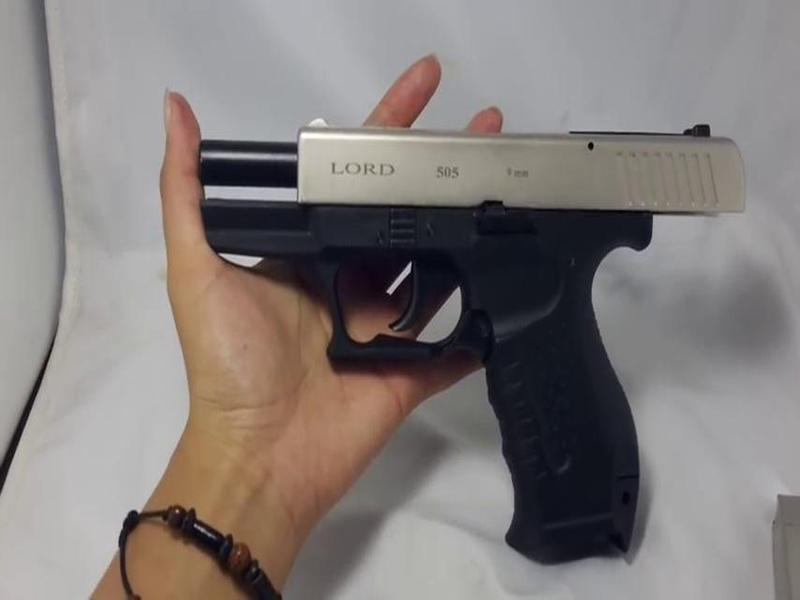Pistola: (171, 122, 736, 551)
